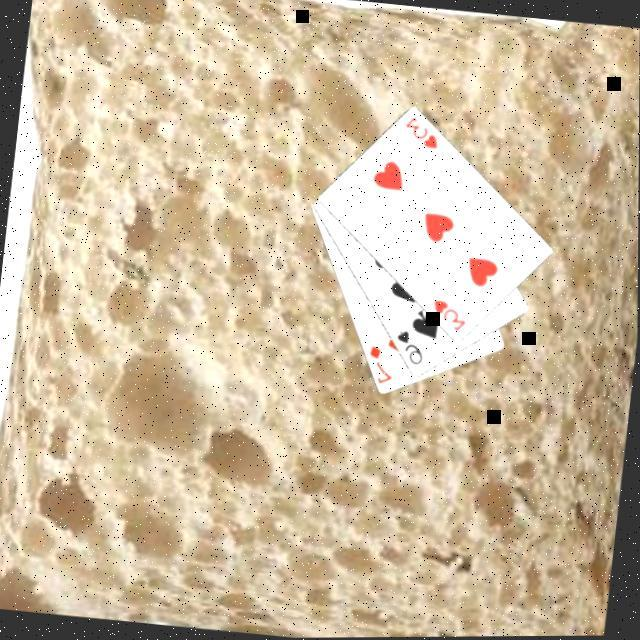3H: (427, 294, 471, 334), (399, 111, 443, 151)
7D: (362, 340, 398, 385)
9S: (389, 325, 427, 367)
